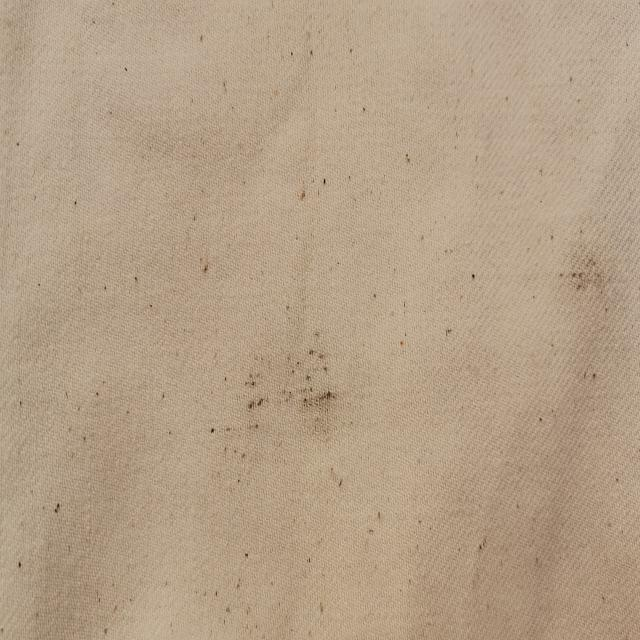taaaches: (219, 326, 352, 472), (559, 224, 613, 320)
